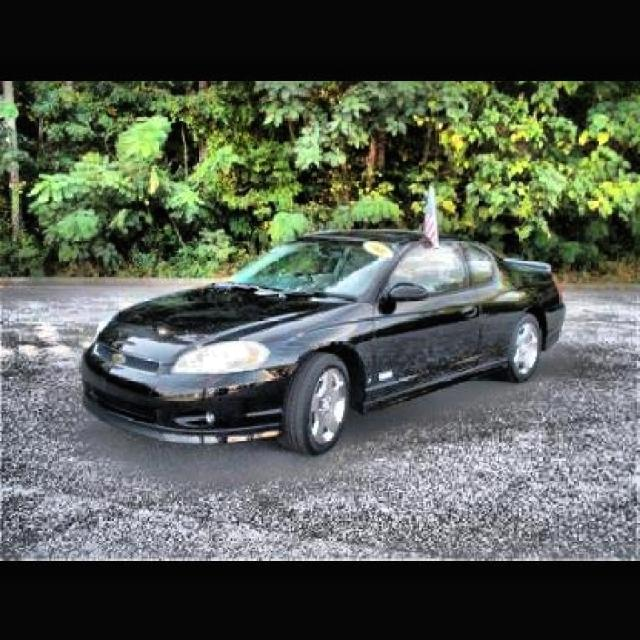black: (45, 221, 564, 459)
